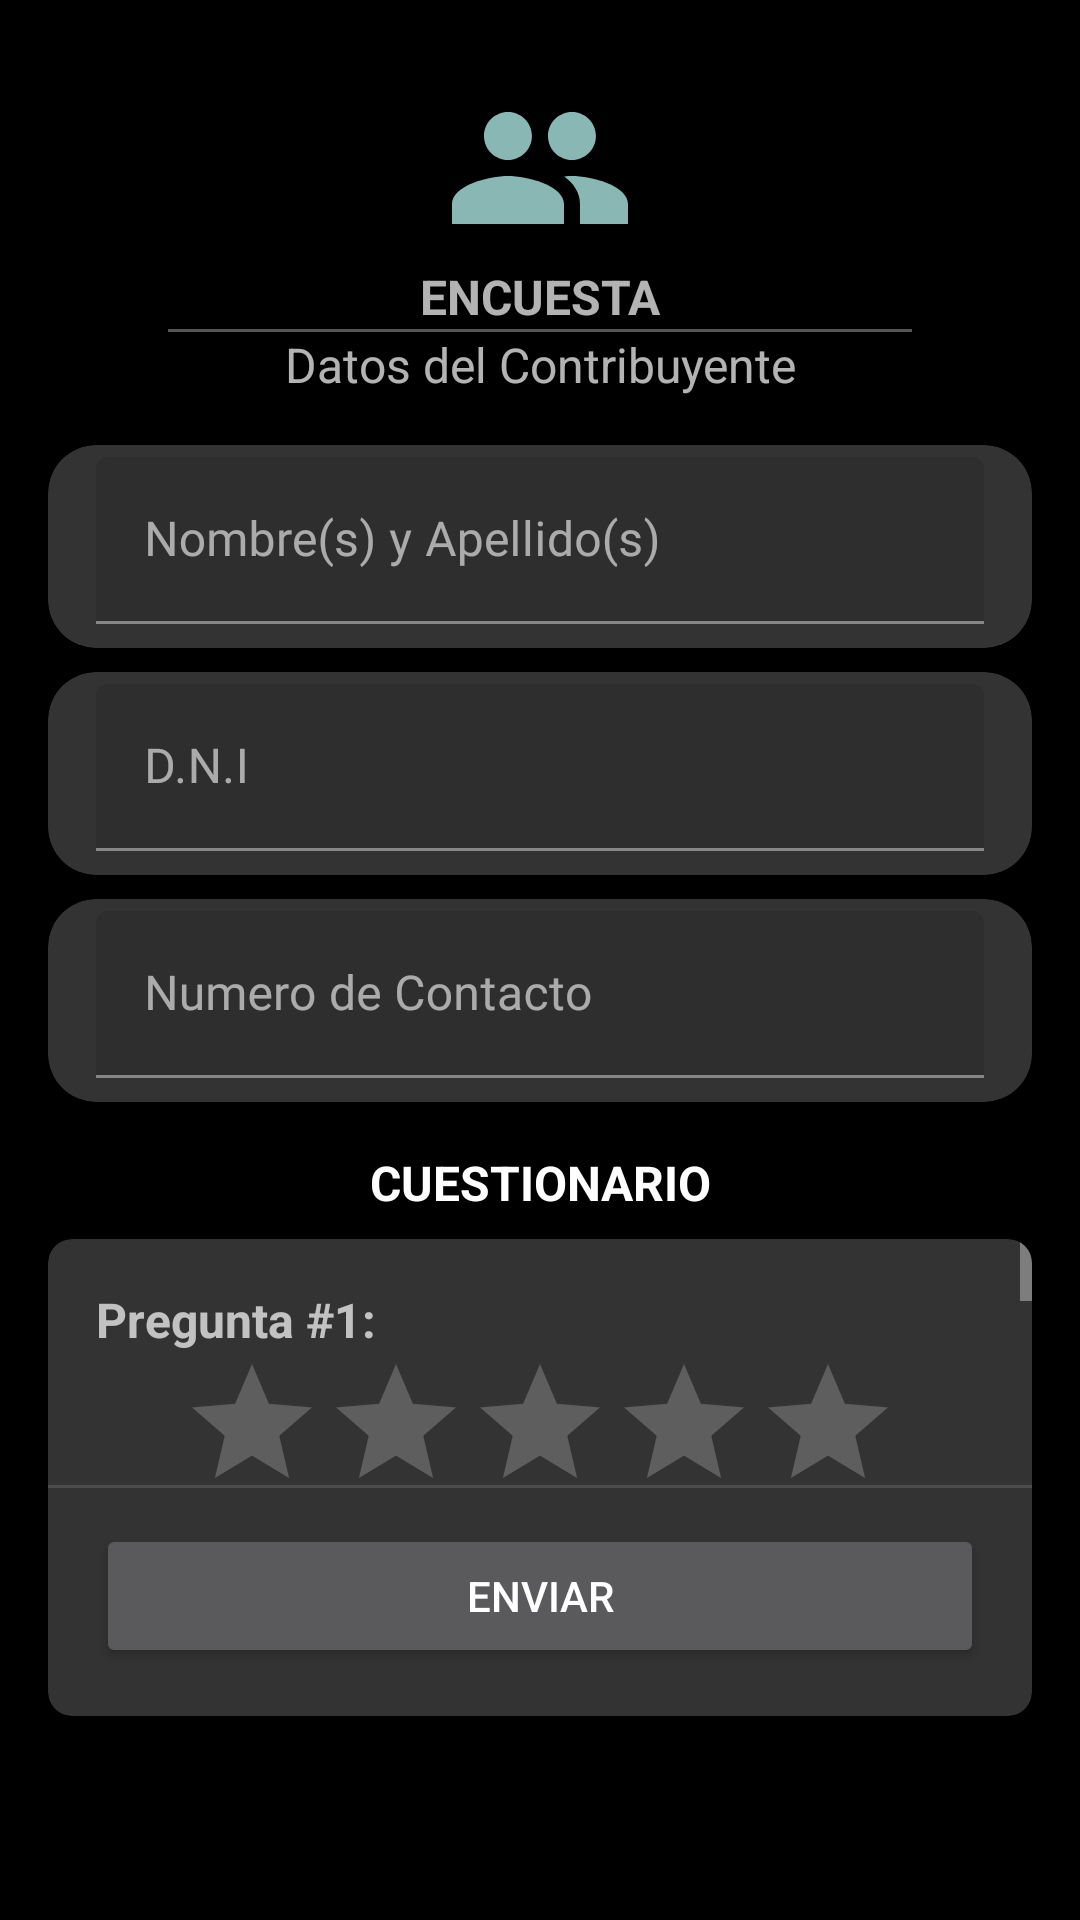

Screen size 1080px x 1920px. Icon name, then its center in pixels as (x,y):
people: (540,168)
